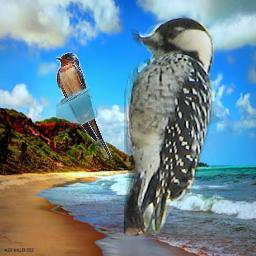Swallow: (56, 52, 112, 159)
Woodpecker: (124, 16, 214, 236)
